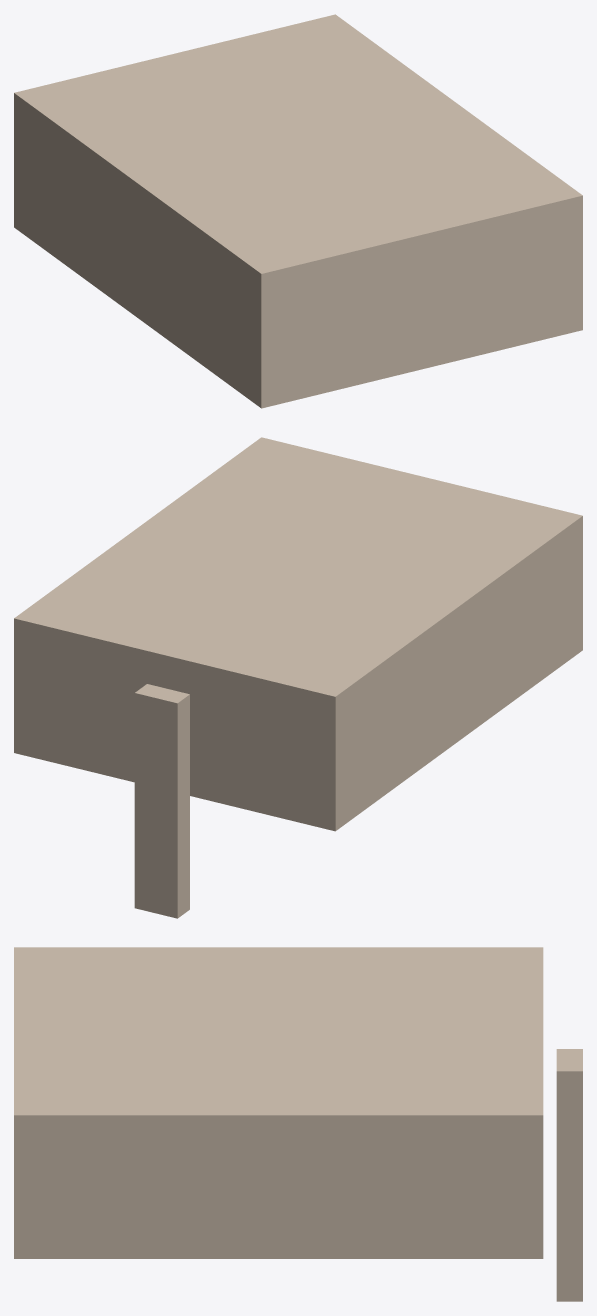
The model's file is temple.glb.
The picture shows the model from 3 angles, top to bottom: view 1: azimuth 30°, elevation 25°; view 2: azimuth 150°, elevation 25°; view 3: azimuth 270°, elevation 25°; orthographic projection. The views are drawn at different scales.
Parts seen in each view (by area): view 1: Mesopotamian_Temple_Entrance; view 2: Mesopotamian_Temple_Entrance; view 3: Mesopotamian_Temple_Entrance.
Boxes of the visible parts, <box> form: Mesopotamian_Temple_Entrance: <box>14,14,582,408</box>; Mesopotamian_Temple_Entrance: <box>14,437,582,918</box>; Mesopotamian_Temple_Entrance: <box>14,947,582,1301</box>.
Bounding box in the file's own units: 15 × 10.8 × 21.5.
